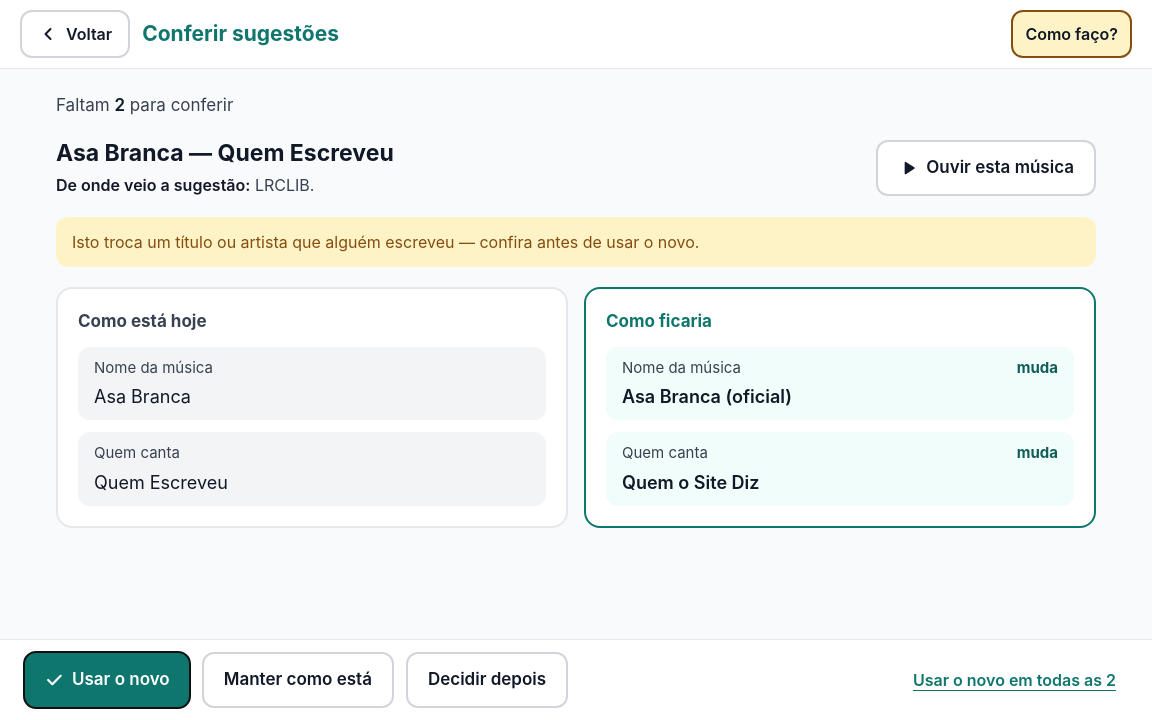
Scenario: Conferir (V15) — uma sugestão por vez › 'Usar o novo' grava SÓ esta sugestão, e a próxima aparece
Click the button "Usar o novo" at coordinates (107, 680), box [24,652,190,708]
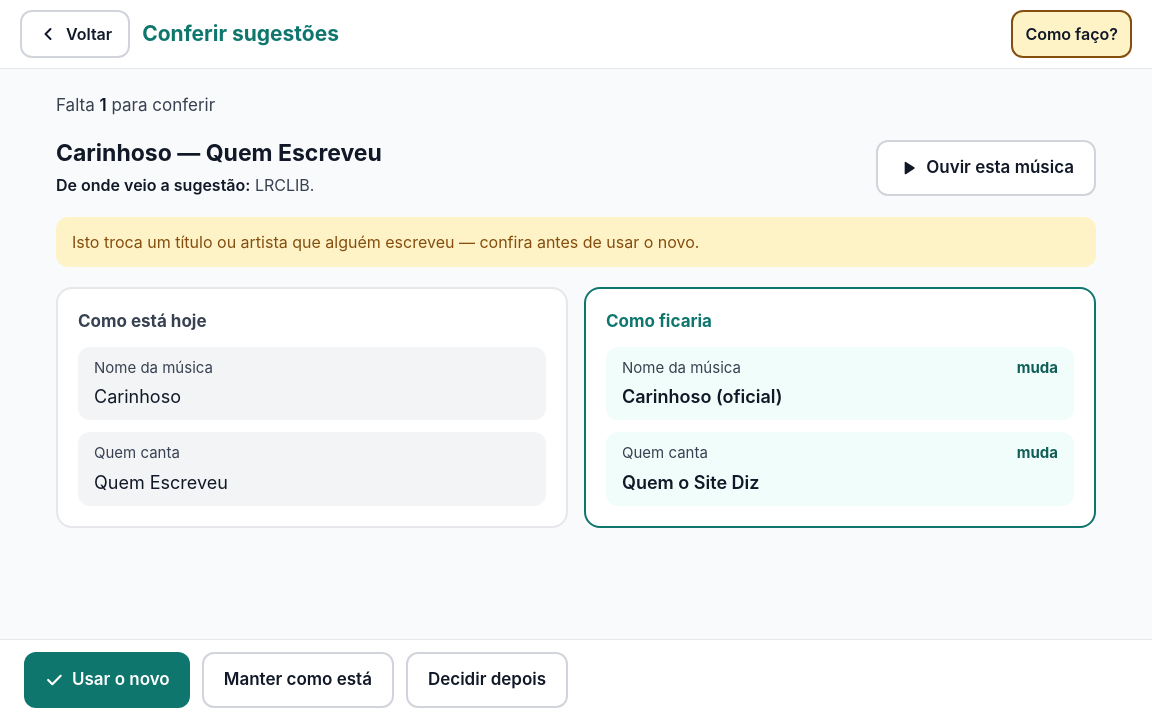
Expected: the heading "Carinhoso — Quem Escreveu" is shown, [56,138,382,166]
